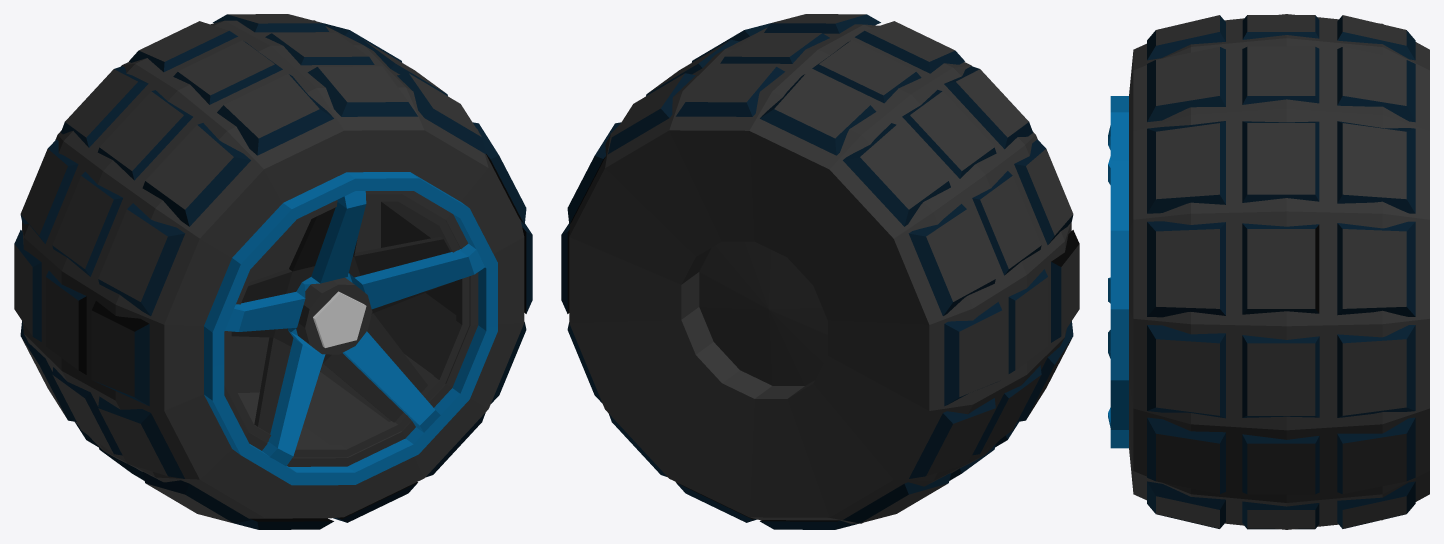
The model's file is wheel44.fbx.
3 renders of one model, left to right at view 1: azimuth 30°, elevation 25°; view 2: azimuth 150°, elevation 25°; view 3: azimuth 270°, elevation 25°, orthographic. The views are drawn at different scales.
Visible parts, largest first — view 1: lanot_wheel43_L; view 2: lanot_wheel43_L; view 3: lanot_wheel43_L.
Boxes of the visible parts, <box> form: lanot_wheel43_L: <box>14,14,532,529</box>; lanot_wheel43_L: <box>561,14,1079,529</box>; lanot_wheel43_L: <box>1108,14,1429,529</box>.
Bounding box in the file's own units: 154 × 156 × 97.25.
